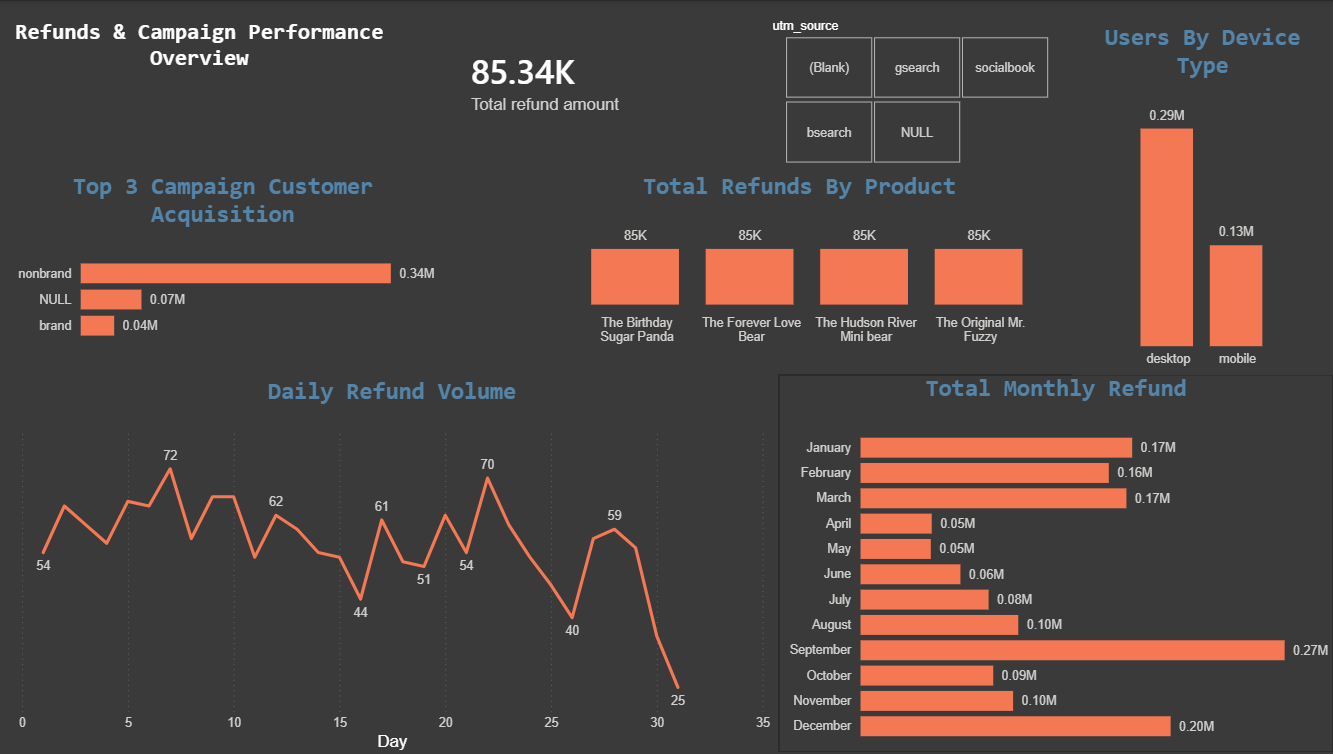

Layout of this report page (visuals, bound fields, positions):
{"tool":"powerbi","page":{"name":"Page 2","canvas":[1280,720],"ordinal":1},"visuals":[{"type":"lineChart","title":"Daily Refund Volume","fields":{"Y":["CountNonNull(order_item_refunds.order_item_refund_id)"],"Category":["order_item_refunds.created_at.Variation.Date Hierarchy.Day"]},"box":[11.6,359.5,737.1,361.1],"z":0},{"type":"clusteredBarChart","title":"Top 3 Campaign Customer Acquisition","fields":{"Y":["Count(website_sessions.user_id)"],"Category":["website_sessions.utm_campaign"]},"box":[11.6,164,414.1,172.3],"z":1000},{"type":"cardVisual","fields":{"Data":["order_item_refunds.Total refund amount"]},"box":[425.7,0,280,150],"z":2000},{"type":"clusteredBarChart","title":"Total Monthly Refund","fields":{"Category":["order_item_refunds.created_at.Variation.Date Hierarchy.Month"],"Y":["Sum(order_item_refunds.order_item_refund_id)"]},"box":[749.5,357.4,530,360.4],"z":3000},{"type":"clusteredColumnChart","title":"Total Refunds By Product","fields":{"Category":["products.product_name"],"Y":["Sum(order_item_refunds.refund_amount_usd)"]},"box":[503.6,164,530,172.6],"z":4000},{"type":"slicer","fields":{"Values":["website_sessions.utm_source"]},"box":[730.5,11.6,299.8,149.9],"z":5000},{"type":"clusteredColumnChart","title":"Users By Device Type","fields":{"Category":["website_sessions.device_type"],"Y":["Count(website_sessions.user_id)"]},"box":[1030.3,21.5,248.3,336.2],"z":6000},{"type":"textbox","box":[11.6,11.6,369.4,152.4],"z":7000}]}

Visuals, with their boxes in screenshot pixels (x1, y1, x2, y2), scaled from the page's 1280x720 canvas onto the 1333x754 screenshot:
"Daily Refund Volume" lineChart: [x1=12, y1=376, x2=780, y2=753]
"Top 3 Campaign Customer Acquisition" clusteredBarChart: [x1=12, y1=172, x2=443, y2=352]
cardVisual - order_item_refunds.Total refund amount: [x1=443, y1=0, x2=735, y2=157]
"Total Monthly Refund" clusteredBarChart: [x1=781, y1=374, x2=1332, y2=752]
"Total Refunds By Product" clusteredColumnChart: [x1=524, y1=172, x2=1076, y2=352]
slicer - website_sessions.utm_source: [x1=761, y1=12, x2=1073, y2=169]
"Users By Device Type" clusteredColumnChart: [x1=1073, y1=23, x2=1332, y2=375]
textbox: [x1=12, y1=12, x2=397, y2=172]
